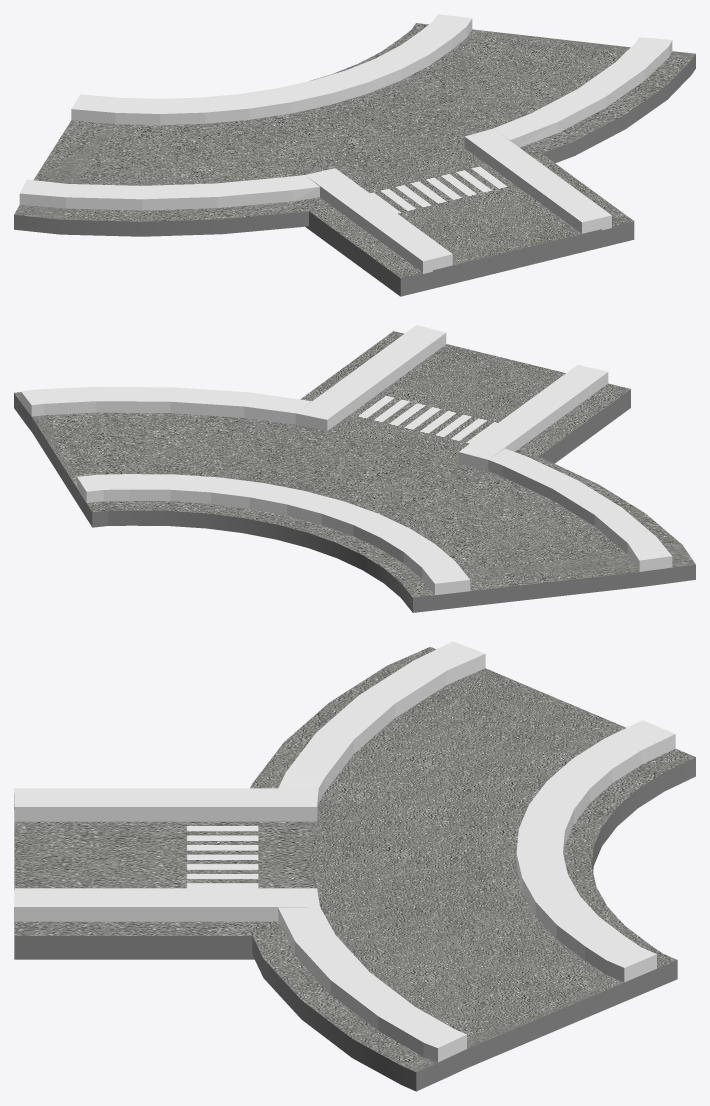
Rendered from 90Turn1_Narrow.FBX.
3 renders of one model, top to bottom at view 1: azimuth 30°, elevation 25°; view 2: azimuth 150°, elevation 25°; view 3: azimuth 270°, elevation 25°, orthographic. The views are drawn at different scales.
Visible parts, largest first — view 1: 90Turn; view 2: 90Turn; view 3: 90Turn.
Boxes of the visible parts, bbox=[...] form: 90Turn: bbox=[14, 14, 695, 296]; 90Turn: bbox=[14, 325, 695, 612]; 90Turn: bbox=[14, 641, 695, 1091].
Size of the model in its own units: 868 by 36.81 by 588.
